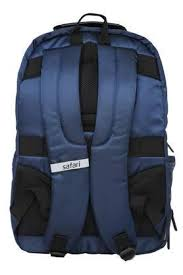backpack: (9, 12, 177, 260)
